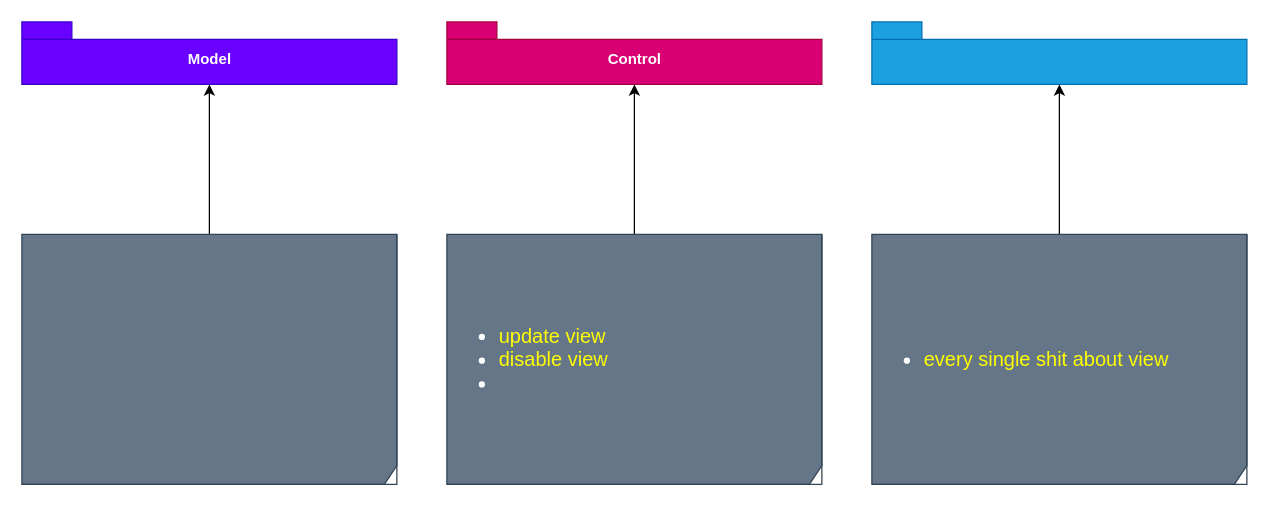
The diagram is 1269 pixels wide and 506 high, and some of its shapes have lost their labels. Each missing label, with the centre of its shape:
"player song playlist" belongs at (x=209, y=358).
"View" belongs at (x=1059, y=52).
